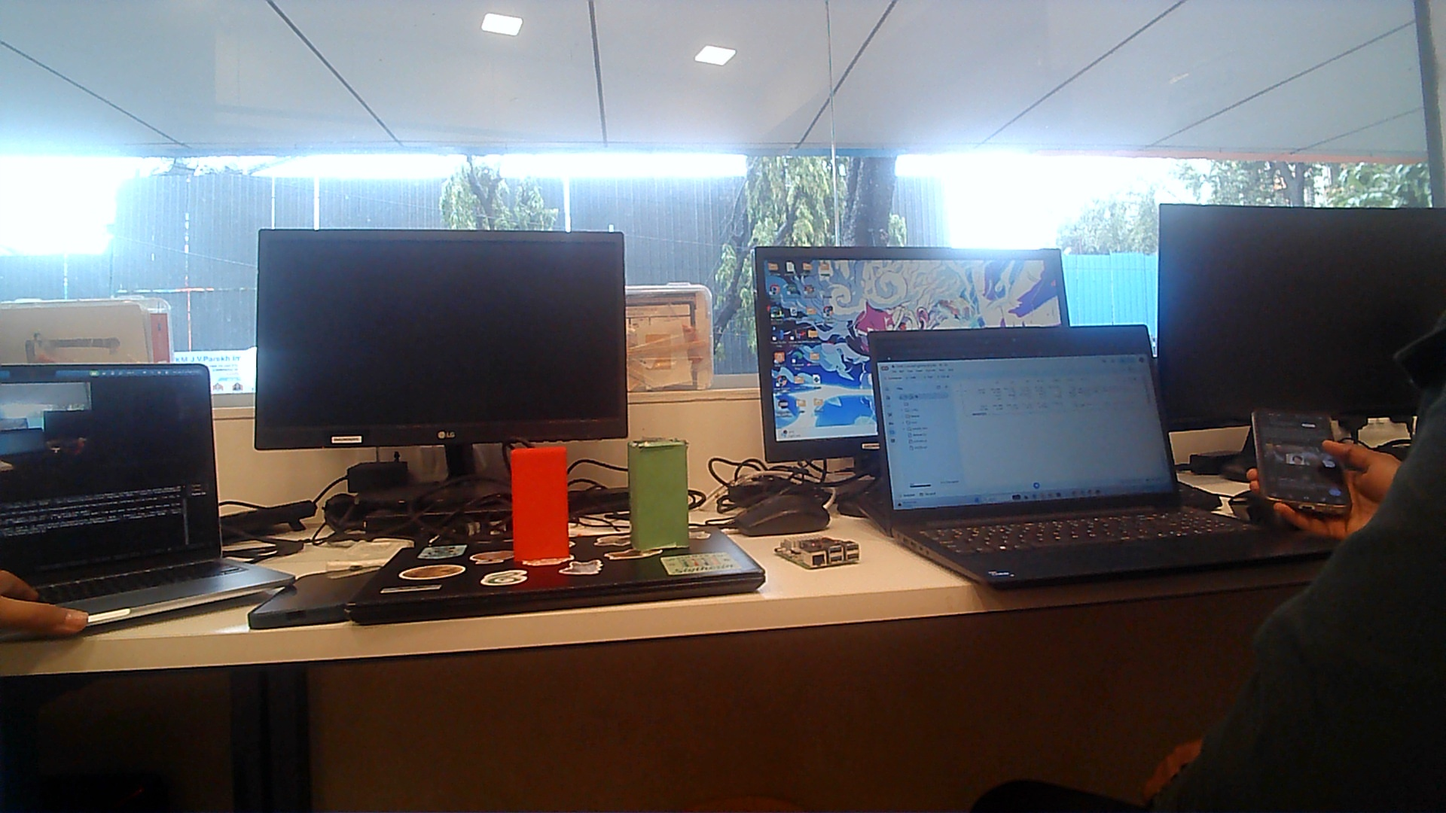green: (630, 441, 688, 547)
